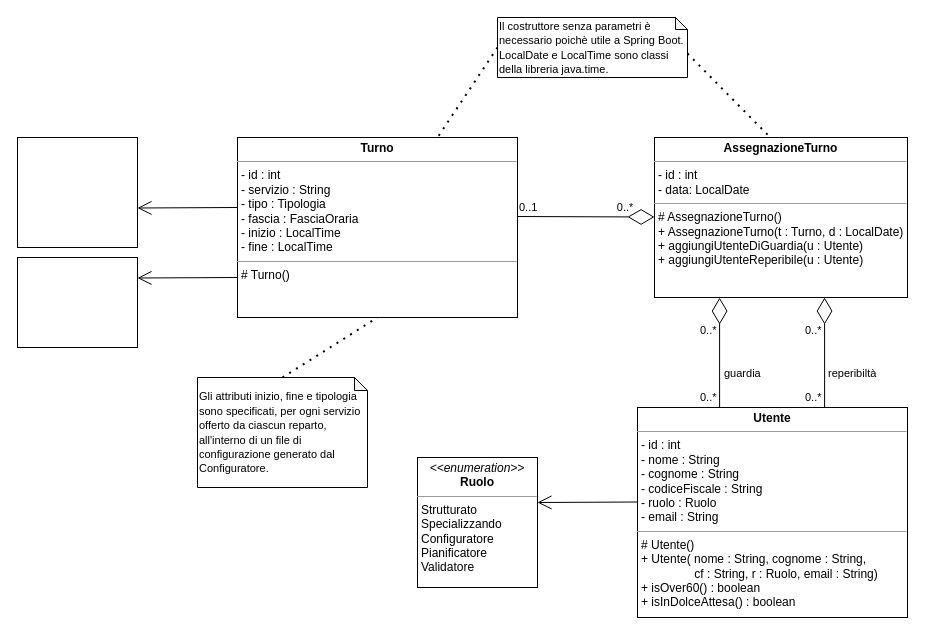
This 925x635 diagram has some shape labels left out. The centre of each missing label's shape, as x and y in pixels:
"<<enumeration>> FasciaOraria Mattina Pomeriggio Notte Lungo" belongs at pixel 77 192.
"<<enumeration>> Tipologia Guardia Servizio" belongs at pixel 77 302.
